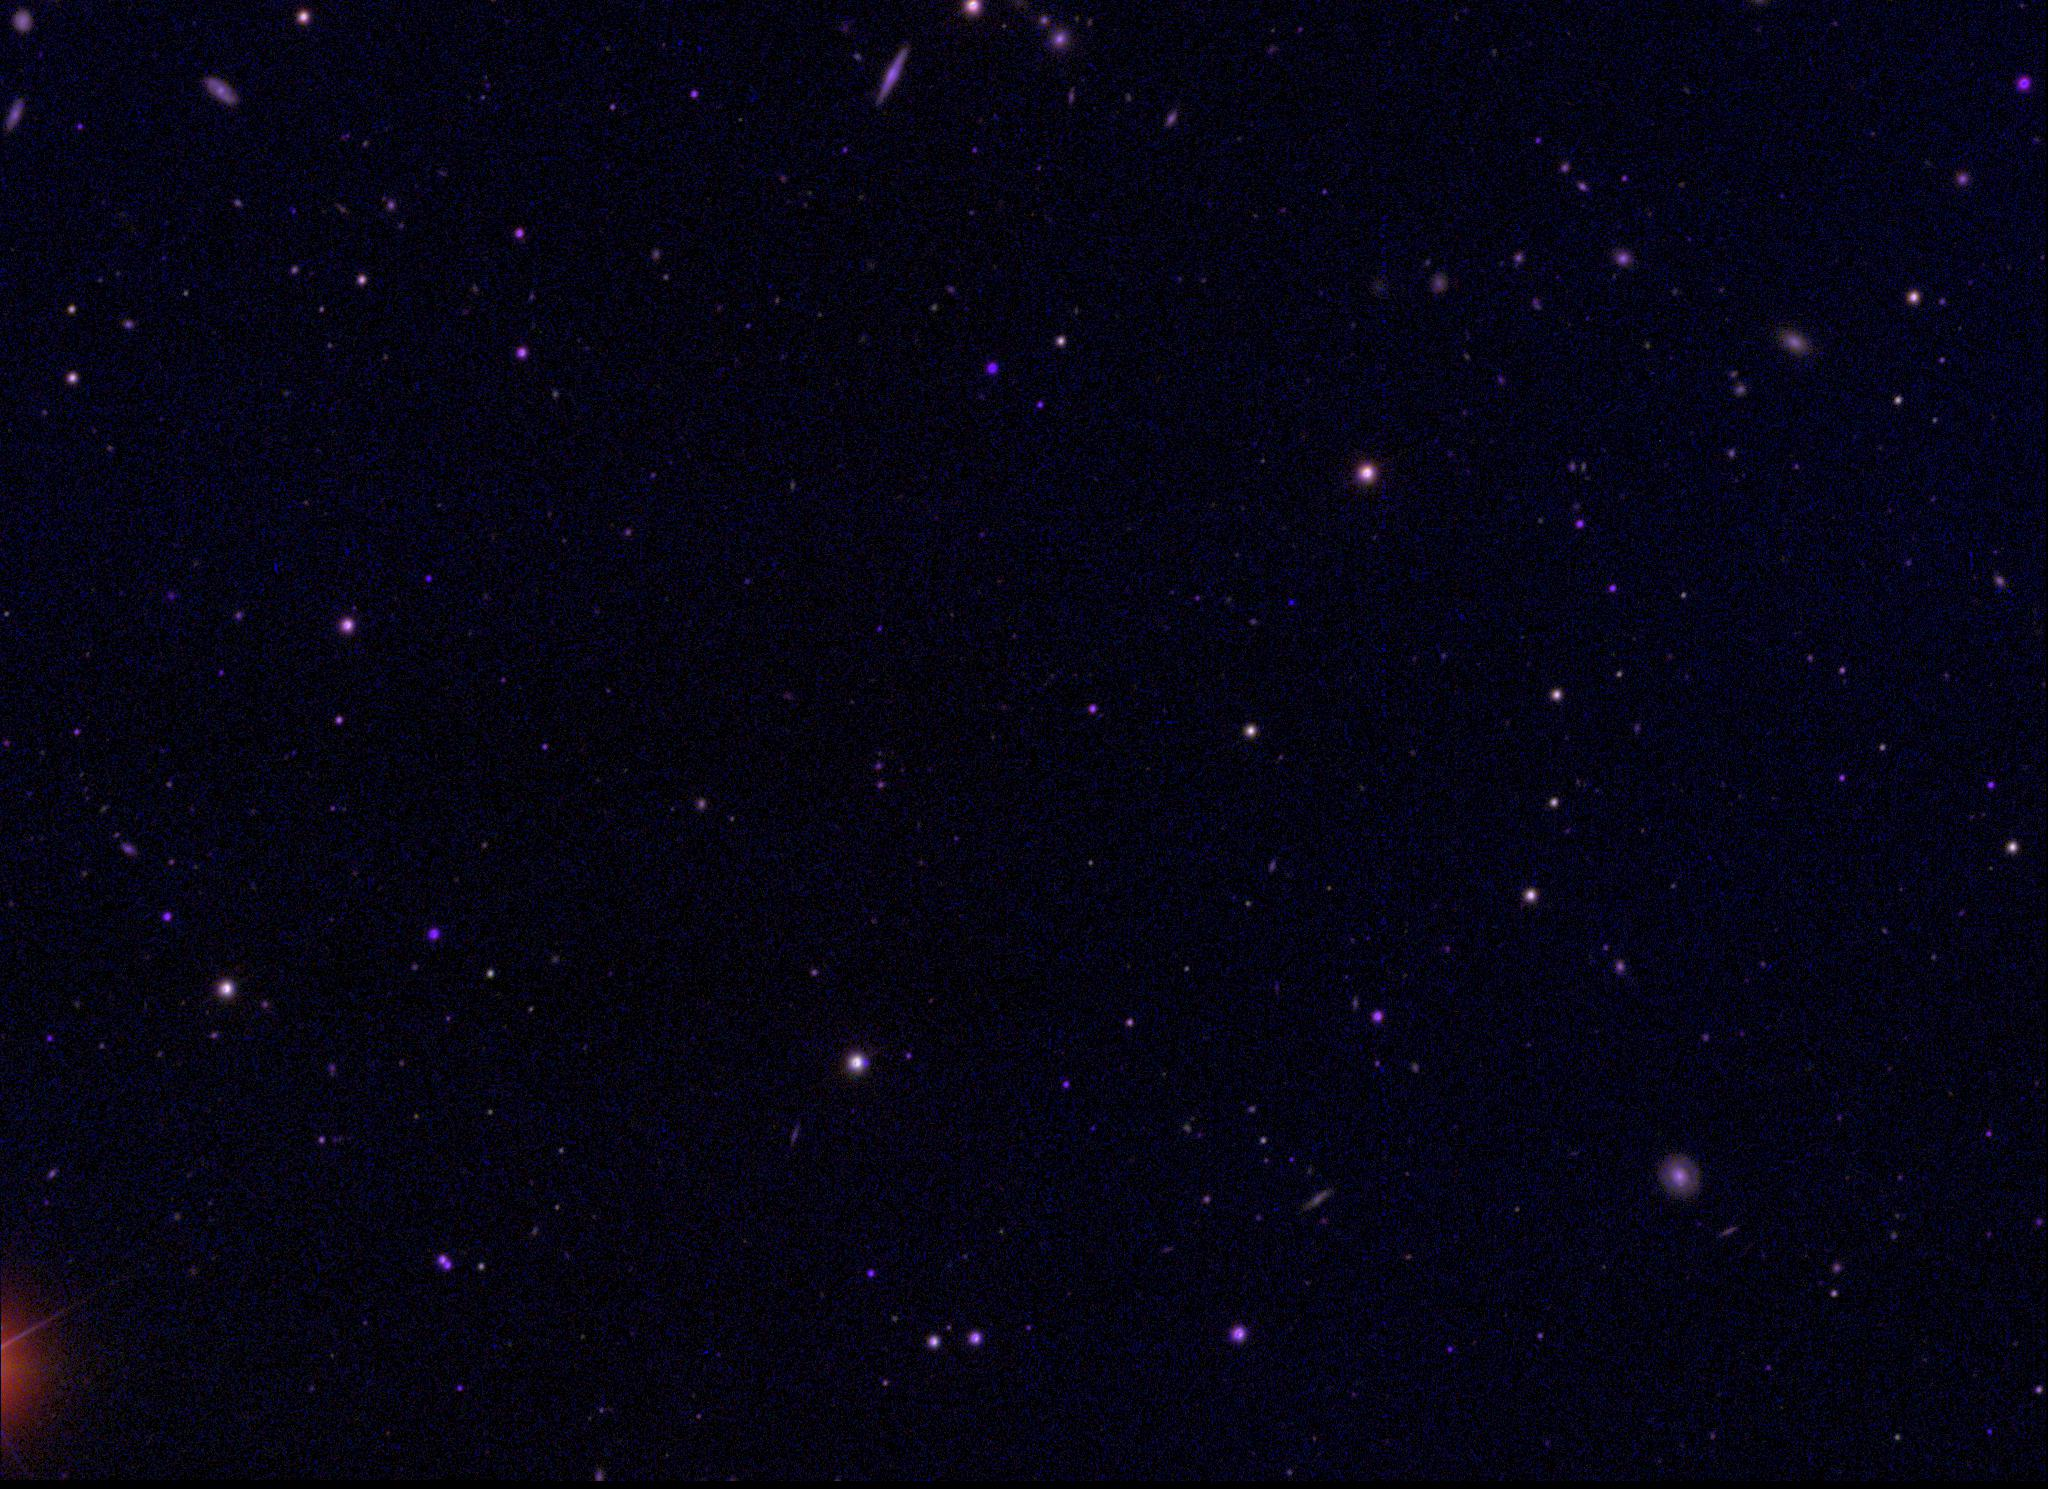L: (1285, 597, 1299, 609)
